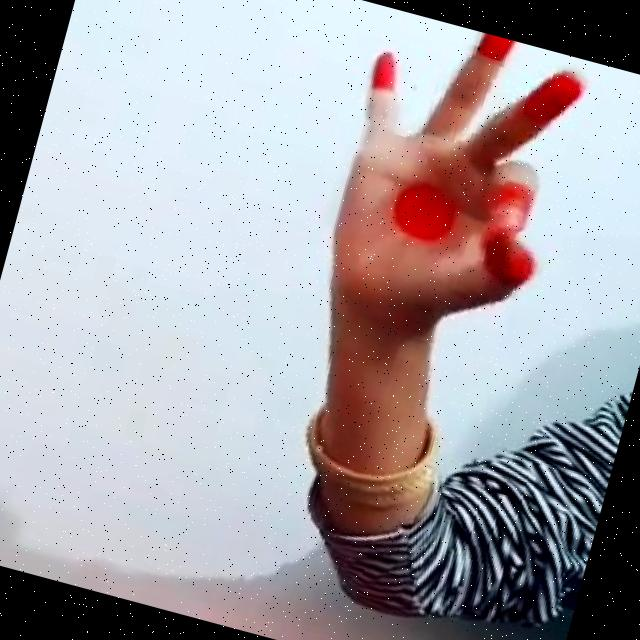Hamsasya: (235, 0, 640, 371)
bangle: (238, 364, 464, 534)
